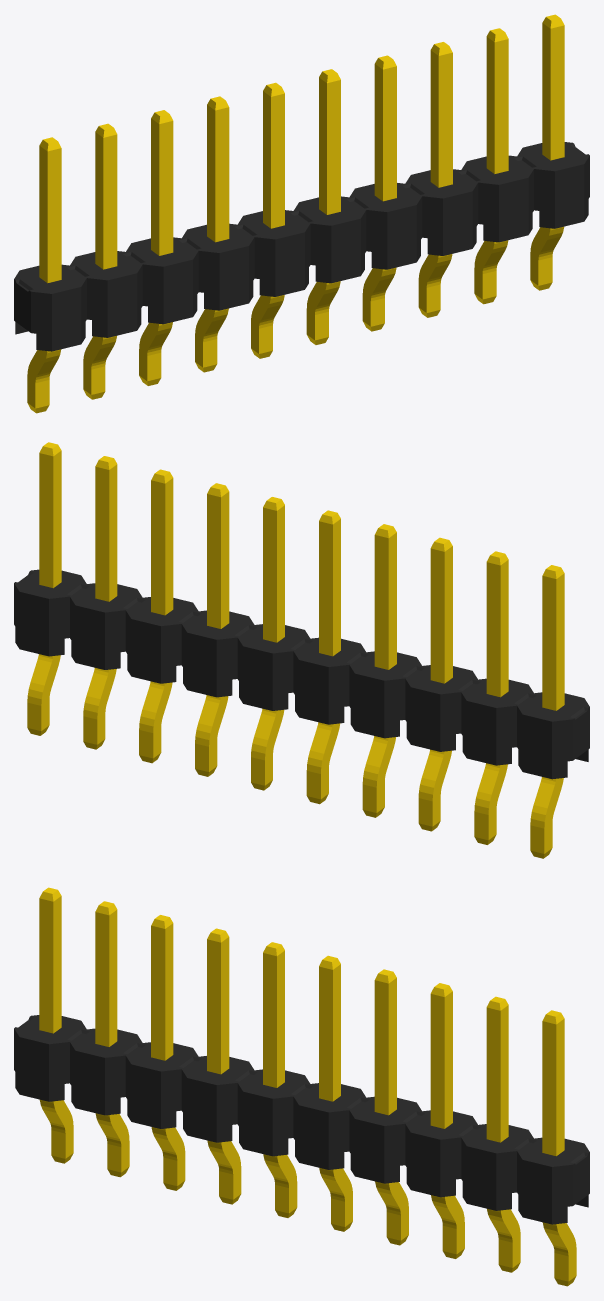
File: DS1025 (PLS-10T CONNFLY).obj
The picture shows the model from 3 angles, top to bottom: view 1: azimuth 30°, elevation 25°; view 2: azimuth 150°, elevation 25°; view 3: azimuth 330°, elevation 25°; orthographic projection.
Parts seen in each view (by area): view 1: DS1025_(PLS-10T_CONNFLY); view 2: DS1025_(PLS-10T_CONNFLY); view 3: DS1025_(PLS-10T_CONNFLY).
Boxes of the visible parts, x1,y1,x2,y2 form: DS1025_(PLS-10T_CONNFLY): (14, 14, 589, 413); DS1025_(PLS-10T_CONNFLY): (14, 442, 589, 858); DS1025_(PLS-10T_CONNFLY): (14, 887, 589, 1286).
Bounding box in the file's own units: 0.0156 × 0.00743 × 0.00156.
